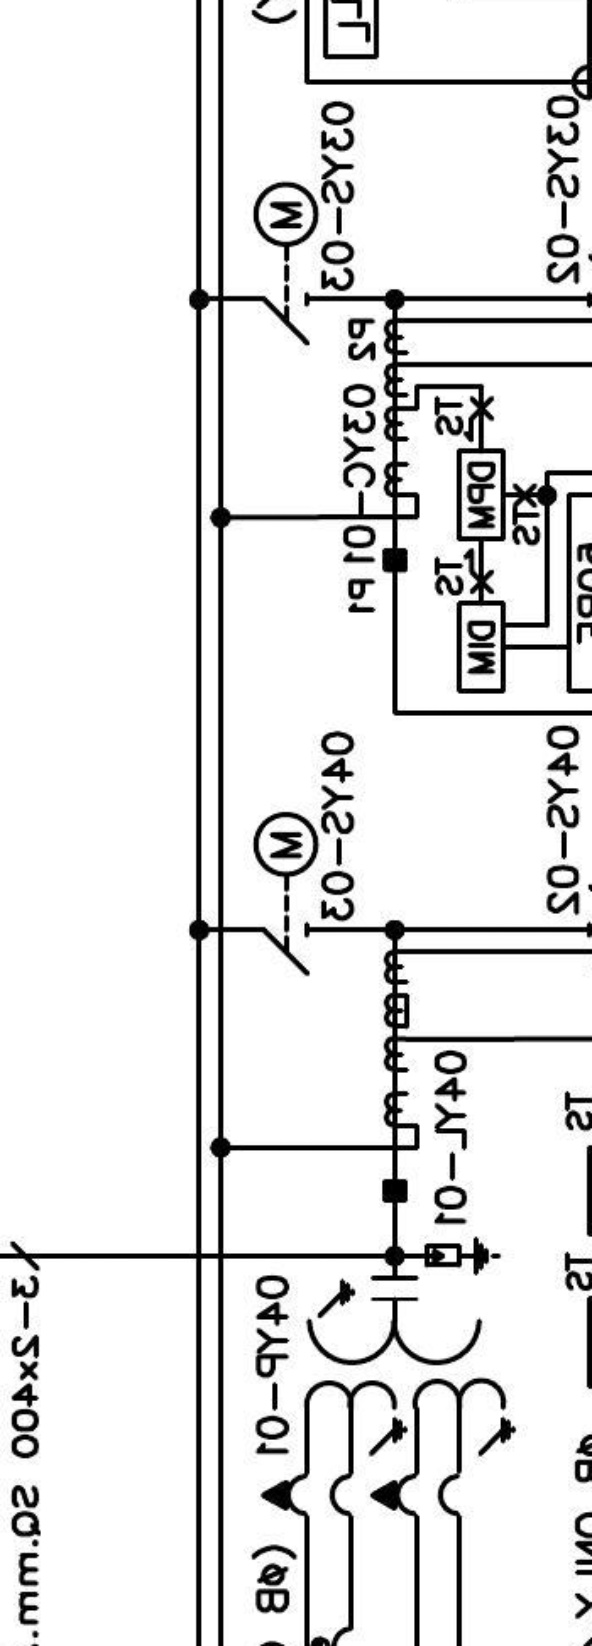115_1way_ds_w_motor: (251, 180, 320, 347), (251, 811, 320, 977)
115_cvt_1p: (260, 1274, 518, 1521)
115_la: (424, 1236, 502, 1276)
DIM: (456, 600, 506, 695)
DPM: (455, 447, 507, 542)
